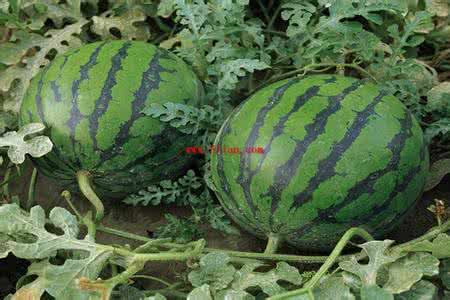watermelon: (200, 66, 422, 249), (14, 36, 207, 195)
